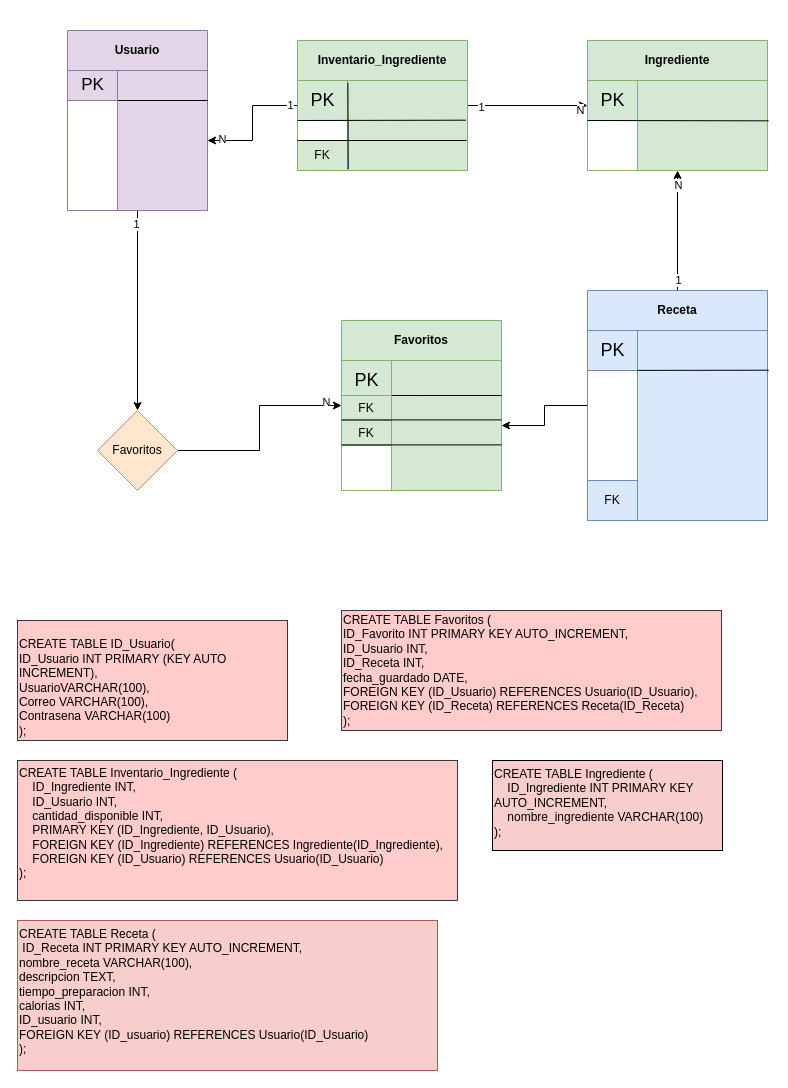
This 788x1088 diagram has some shape labels left out. The shapes that lost their labels are listed below. From the top down, each one's centre as x and y in pixels, then its label:
At pixel 162 140: "ID_Usuario Usuario Contraseña correo".
At pixel 407 125: "ID_ingrediente cantidad_disponible ID_usuario".
At pixel 702 125: "ID_ingrediente nombre_ingrediente".
At pixel 446 425: "ID_favorito ID_usuario ID_receta fecha_guardado".
At pixel 702 425: "ID_receta nombre_receta descripcion calorias tiempo_preparacion ID_usuario".
